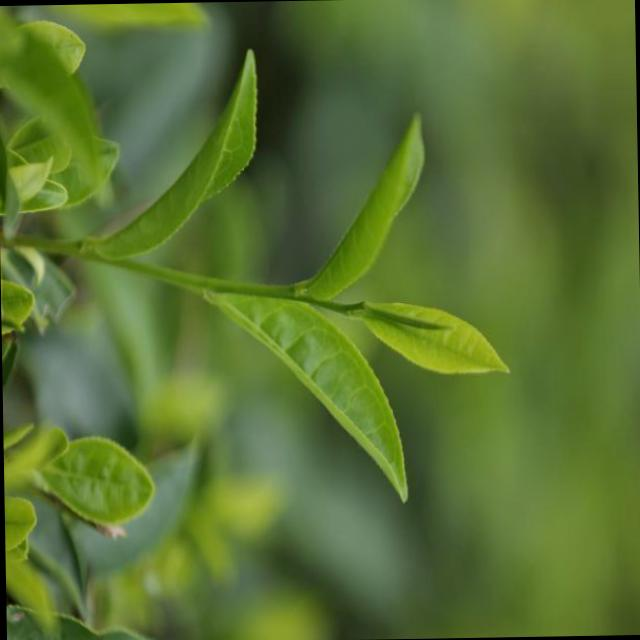Stem: (274, 284, 293, 298)
